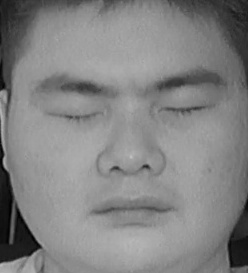blink: (48, 96, 105, 132), (158, 90, 214, 126)
mouth: (88, 183, 177, 233)
